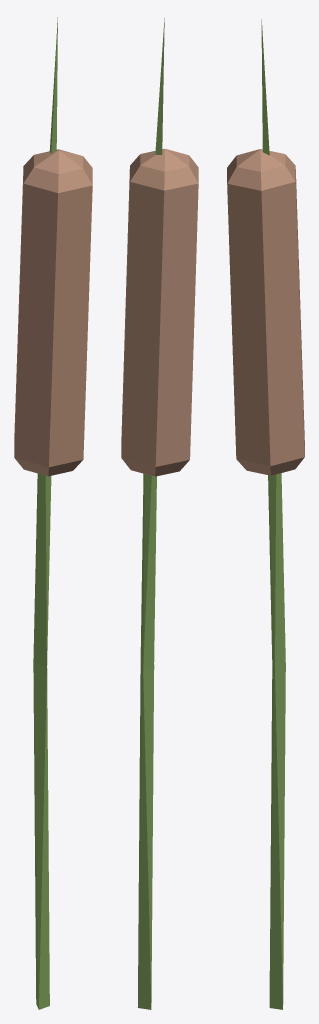
The model's file is Prop_Cattail_2.glb.
The picture shows the model from 3 angles, left to right: view 1: azimuth 90°, elevation 25°; view 2: azimuth 150°, elevation 25°; view 3: azimuth 270°, elevation 25°; orthographic projection.
Parts seen in each view (by area): view 1: Prop_Cattail_2_Merged; view 2: Prop_Cattail_2_Merged; view 3: Prop_Cattail_2_Merged.
Part boxes in pixels (x1,y1,x2,y2): Prop_Cattail_2_Merged: [14, 17, 92, 1009]; Prop_Cattail_2_Merged: [121, 18, 198, 1009]; Prop_Cattail_2_Merged: [227, 19, 304, 1009].
Bounding box in the file's own units: 0.0737 × 0.9584 × 0.0683.
